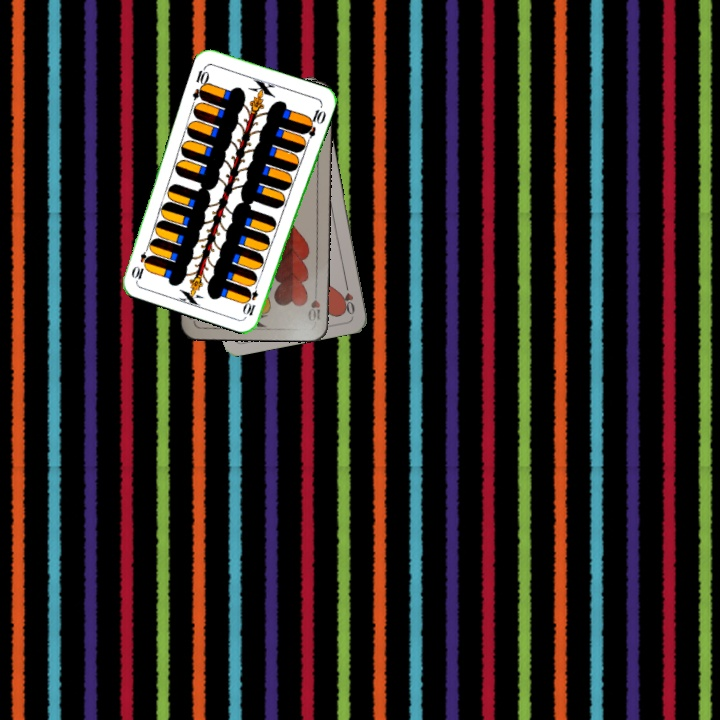E10: (188, 62, 212, 103), (241, 278, 261, 318)
H10: (304, 284, 323, 324)
HO: (339, 277, 357, 317)
